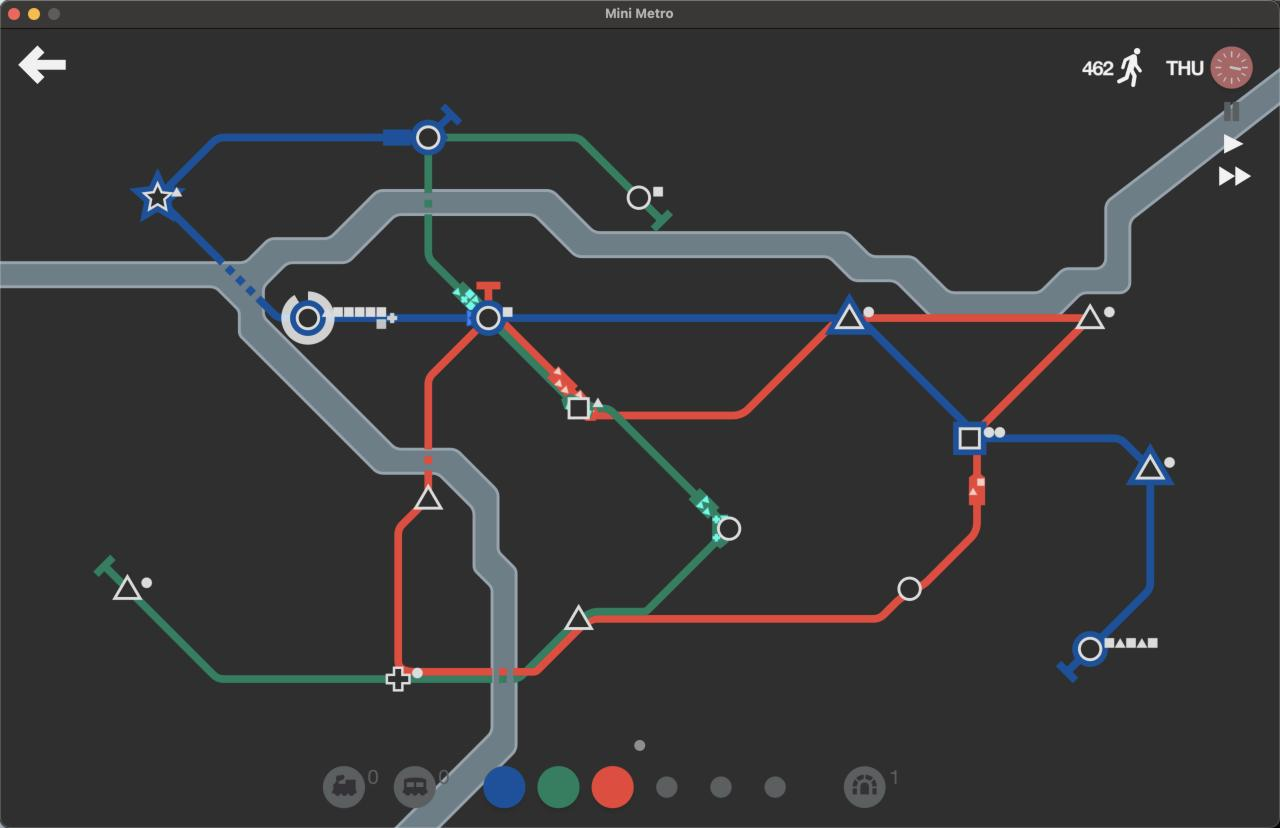CIRCLE: (411, 119, 447, 155), (1072, 631, 1107, 667), (469, 302, 506, 336), (715, 515, 742, 542), (626, 185, 652, 211), (897, 576, 922, 602), (296, 306, 319, 329)
CROSS: (384, 667, 411, 692)
SQUARE: (566, 396, 591, 420), (958, 427, 980, 450)
STAR: (140, 179, 181, 213)
TRIANGLE: (1128, 445, 1175, 484), (834, 300, 866, 332), (564, 603, 596, 632), (413, 482, 444, 511), (112, 573, 142, 602), (1076, 303, 1106, 330)
